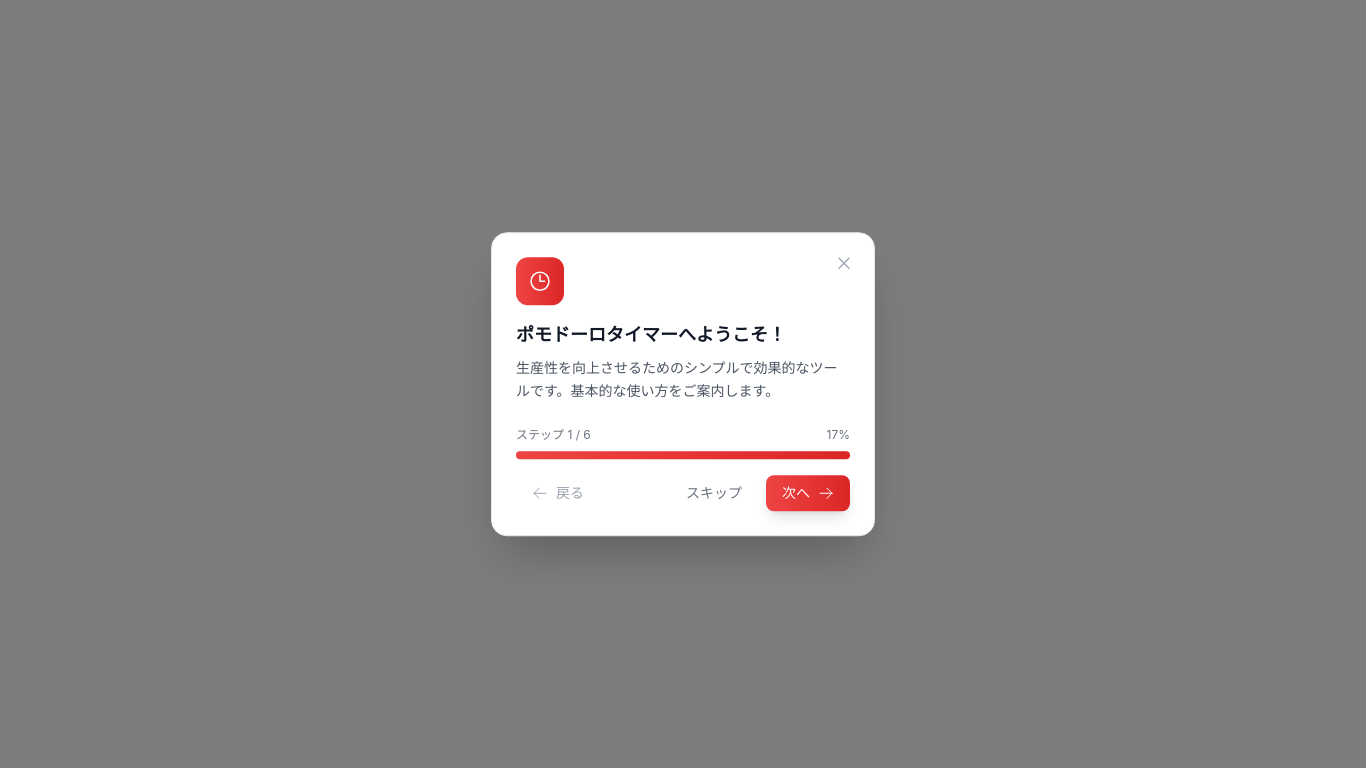
OnboardingTour › 戻るボタンをクリックすると前のステップに戻る
Note: 次のステップに進む
What coordinates should you click on to do the following:
click the button "次へ"
I would click on:
 (808, 493)
Its box is x1=766 y1=475 x2=850 y2=511.
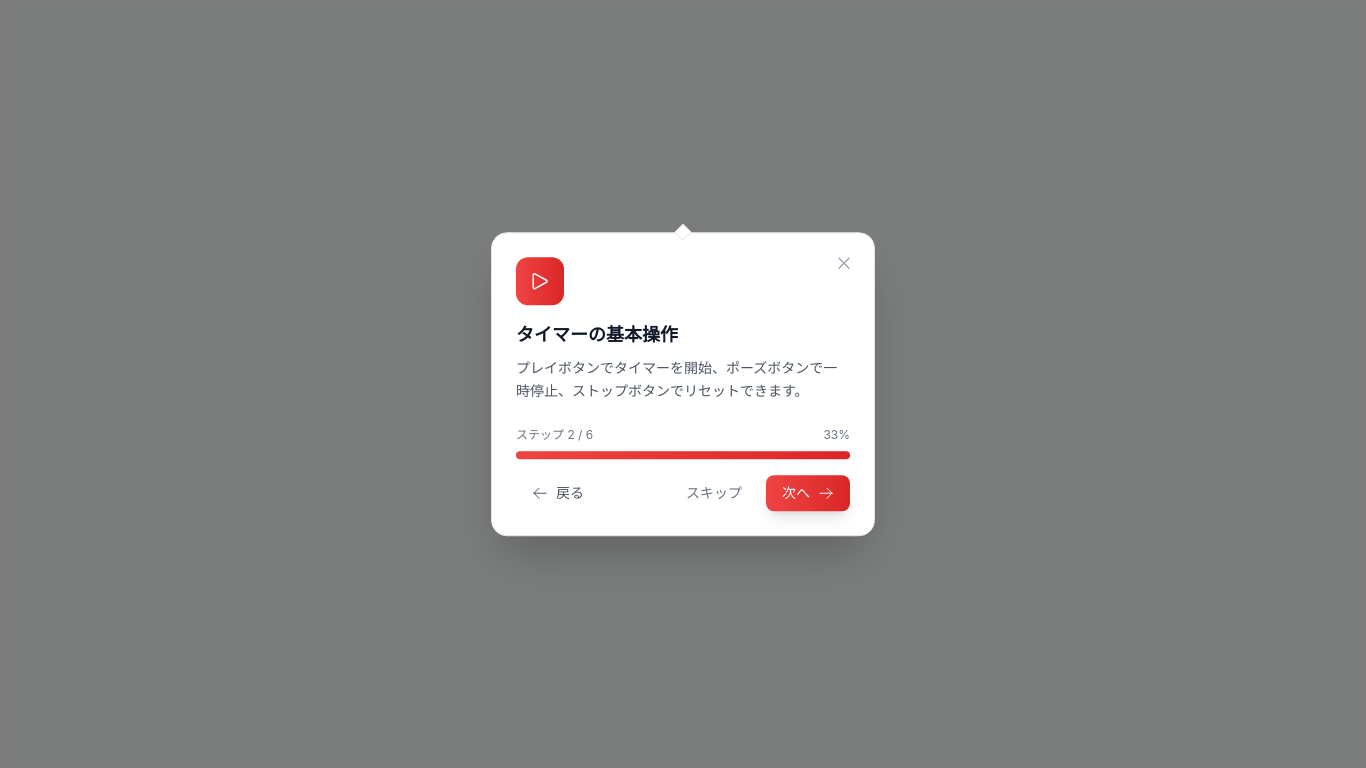
Note: 戻るボタンをクリック
What coordinates should you click on to do the following:
click the button "戻る"
I would click on:
 (558, 493)
Its box is x1=516 y1=475 x2=600 y2=511.
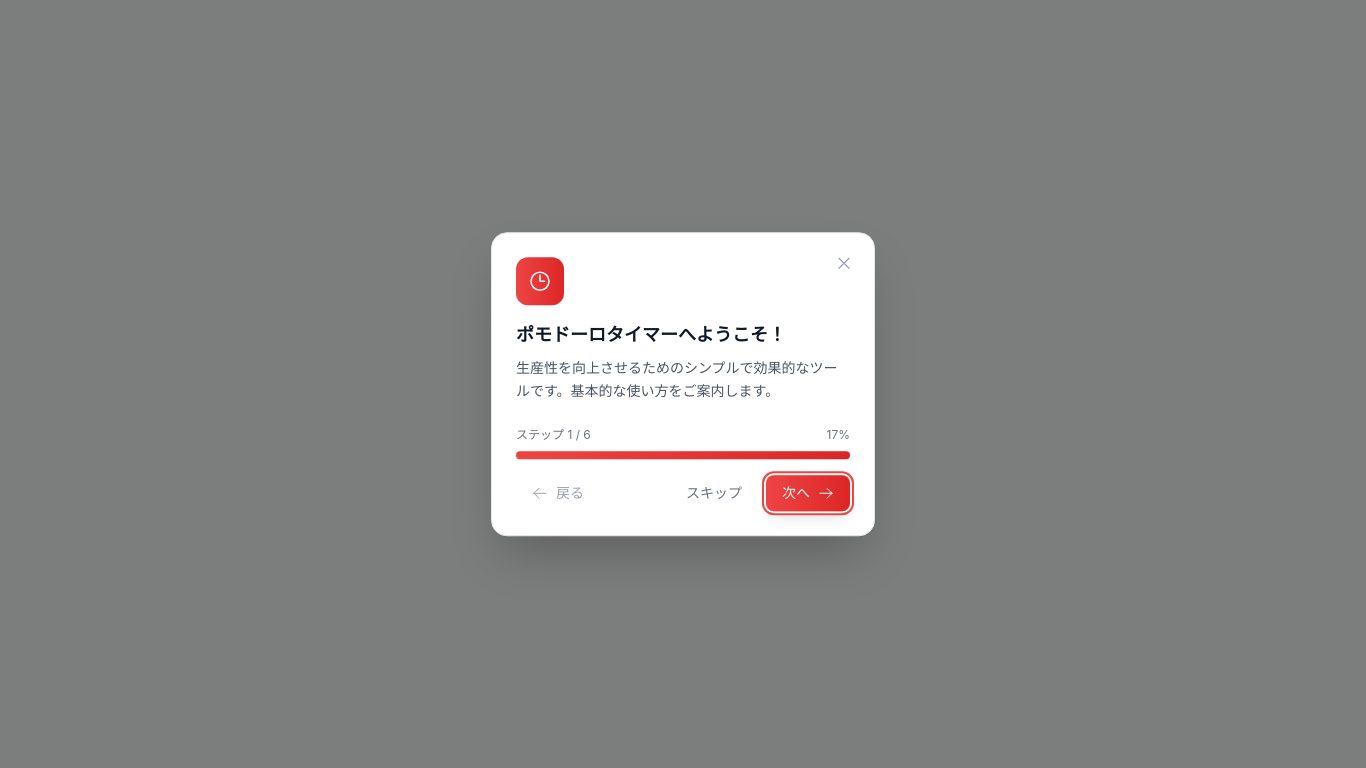
Result: the heading "ポモドーロタイマーへようこそ！" is shown at x1=516 y1=324 x2=786 y2=345
Result: the text "ステップ 1 / 6" is shown at x1=516 y1=427 x2=591 y2=443
